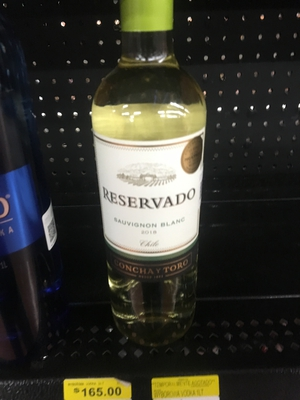reservado sauvignon blanc: (72, 18, 206, 326)
